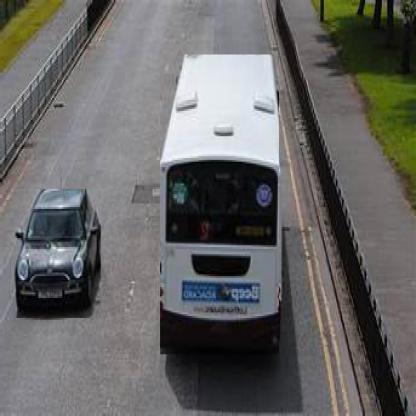bus: (160, 56, 280, 357)
car: (13, 190, 102, 321)
